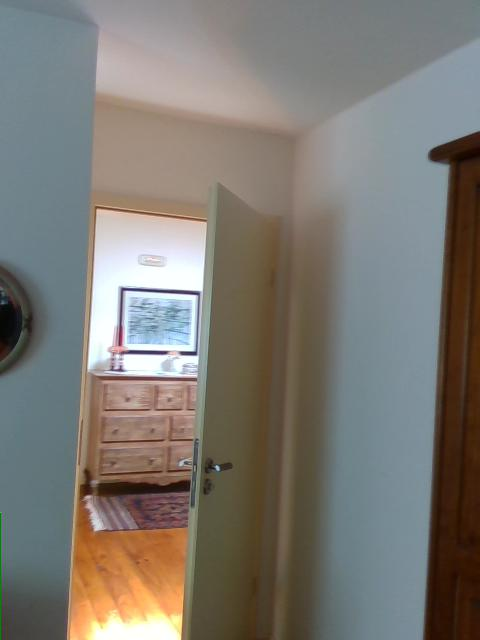semi_door: (64, 176, 287, 639)
